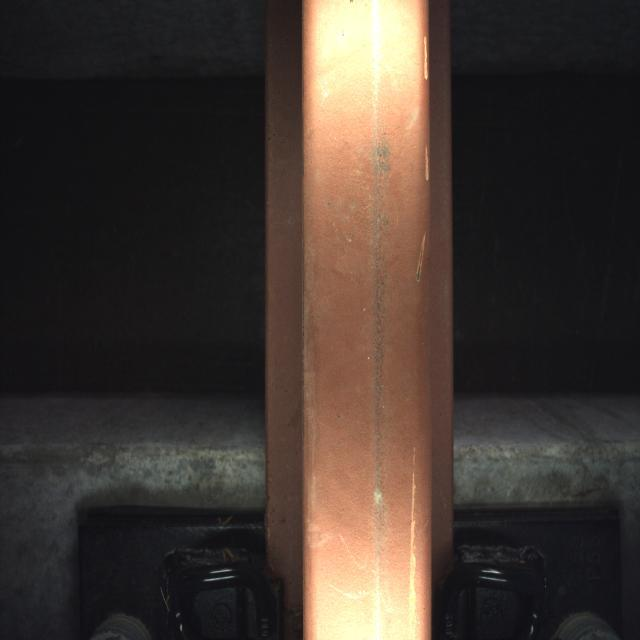break: (323, 66, 408, 609)
